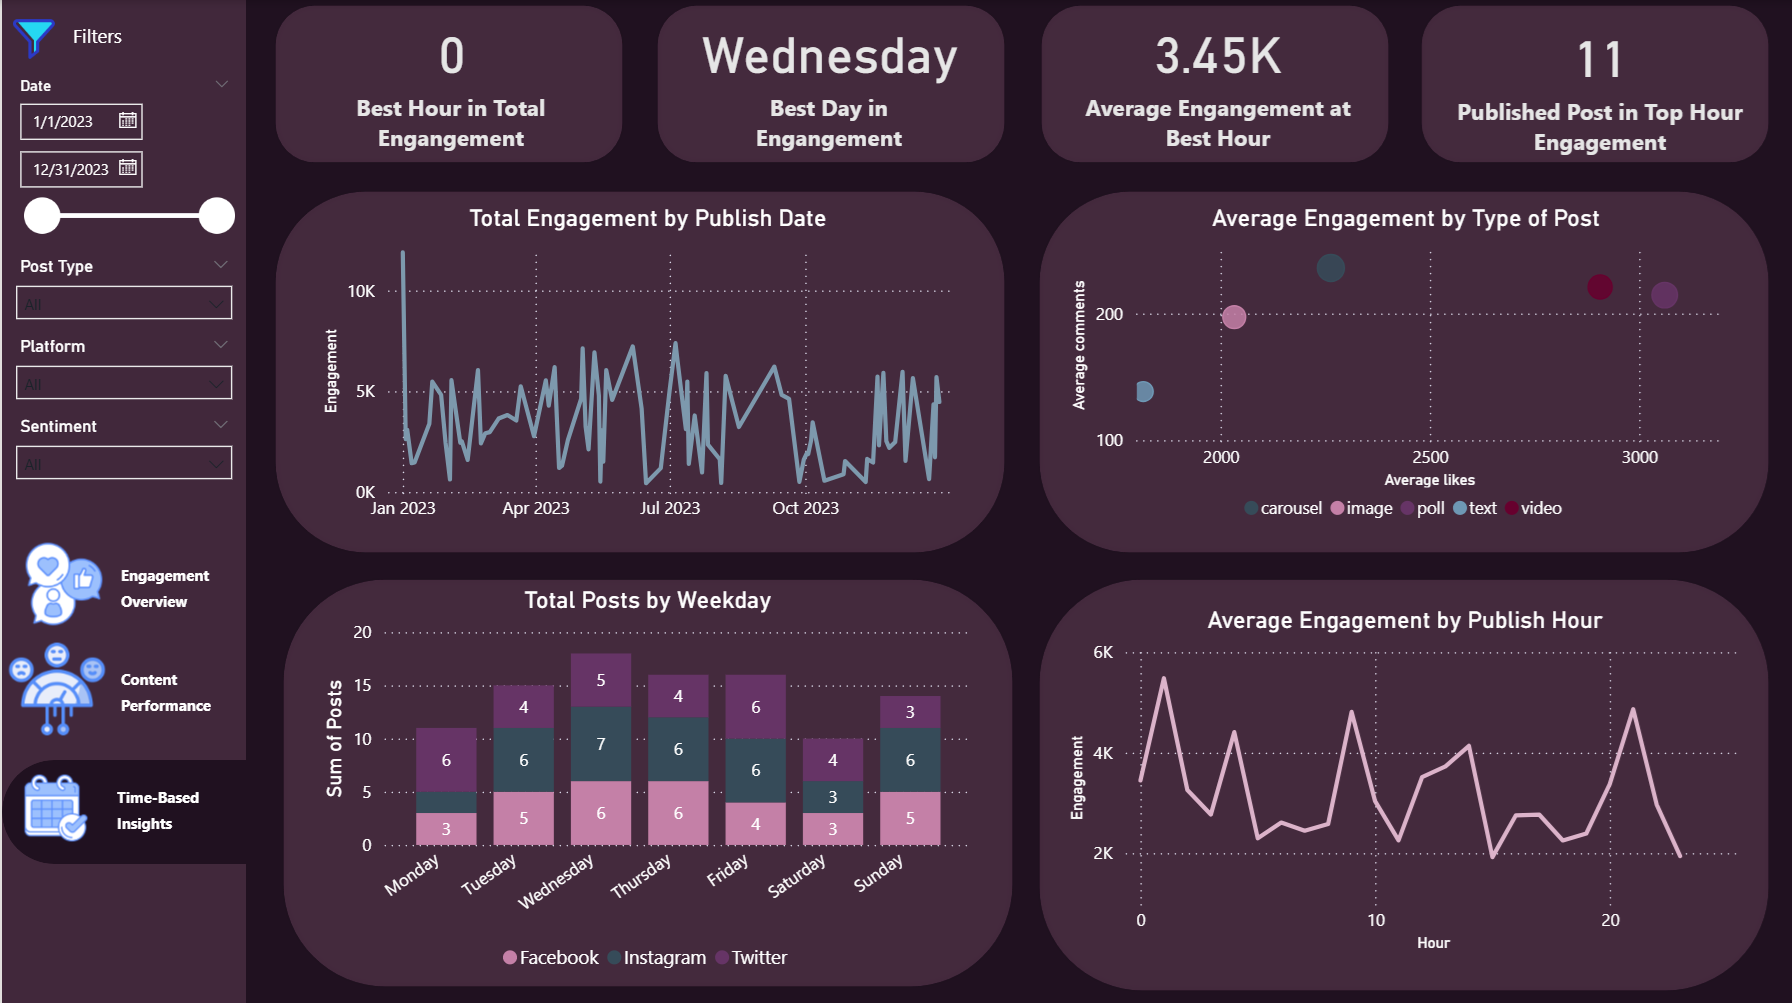

Layout of this report page (visuals, bound fields, positions):
{"tool":"powerbi","page":{"name":"Time-Based Performance","canvas":[1280,720],"ordinal":3},"visuals":[{"type":"shape","box":[0,0,174.3,720],"z":0},{"type":"shape","box":[0,542.9,175.7,74.3],"z":1000},{"type":"shape","box":[191.4,0,255.7,120],"z":2000},{"type":"shape","box":[464.3,0,255.7,120],"z":3000},{"type":"shape","box":[738.6,0,255.7,120],"z":4000},{"type":"shape","box":[1010,0,255.7,120],"z":5000},{"type":"shape","box":[191.4,132.9,528.6,265.7],"z":6000},{"type":"shape","box":[737.1,132.9,528.6,265.7],"z":7000},{"type":"shape","box":[197.1,410,528.6,298.6],"z":8000},{"type":"shape","box":[737.1,410,528.6,301.4],"z":9000},{"type":"card","fields":{"Values":["fact_post.Top Hour"]},"box":[242.9,0,157.1,72.9],"z":10000},{"type":"textbox","box":[237.1,60,167.1,60],"z":11000},{"type":"card","fields":{"Values":["fact_post.Top Day"]},"box":[481.4,0,220,72.9],"z":12000},{"type":"textbox","box":[507.1,60,167.1,60],"z":13000},{"type":"card","fields":{"Values":["fact_post.Avg Top Eng Best Hour"]},"box":[758.6,0,220,72.9],"z":14000},{"type":"textbox","box":[767.1,60,202.9,60],"z":15000},{"type":"card","fields":{"Values":["fact_post.Hour Posts"]},"box":[1032.1,2.9,220,72.9],"z":16000},{"type":"textbox","box":[1031.4,62.9,220,60],"z":17000},{"type":"lineChart","title":"Total Engagement by Publish Date","fields":{"Category":["dim_time.post_time.Variation.Date Hierarchy.Year","dim_time.post_time.Variation.Date Hierarchy.Quarter","dim_time.post_time.Variation.Date Hierarchy.Month","dim_time.post_time.Variation.Date Hierarchy.Day"],"Y":["Sum(fact_post.Total Engagement)"]},"box":[224.3,145.7,474.3,235.7],"z":18000},{"type":"lineChart","title":"Average Engagement by Publish Hour","fields":{"Y":["Avg(fact_post.Total Engagement)"],"Category":["dim_time.hour"]},"box":[757.1,432.9,490,251.4],"z":19000},{"type":"columnChart","title":"Total Posts by Weekday","fields":{"Y":["Count(fact_post.post_id)"],"Category":["dim_time.post_day"],"Series":["dim_platform.platform_name"]},"box":[224.3,418.6,474.3,284.3],"z":20000},{"type":"scatterChart","title":"Average Engagement by Type of Post","fields":{"X":["Avg(fact_post.likes)"],"Y":["Avg(fact_post.comments)"],"Size":["Avg(fact_post.shares)"],"Series":["dim_post_type.post_type"]},"box":[758.6,145.7,488.6,235.7],"z":21000},{"type":"actionButton","box":[10,548.6,165.7,57.1],"z":23000},{"type":"textbox","box":[77.1,554.3,97.1,51.4],"z":24000},{"type":"textbox","box":[80,470,95.7,50],"z":25000},{"type":"textbox","box":[80,395.7,94.3,57.1],"z":26000},{"type":"image","box":[0,4.3,45.7,45.7],"z":27000},{"type":"textbox","box":[45.7,11.4,74.3,32.9],"z":28000},{"type":"slicer","fields":{"Values":["dim_time.Date"]},"box":[0,50,174.3,122.9],"z":29000},{"type":"slicer","fields":{"Values":["dim_post_type.post_type"]},"box":[0,178.6,174.3,67.1],"z":30000},{"type":"slicer","fields":{"Values":["dim_platform.platform_name"]},"box":[0,235.7,174.3,67.1],"z":31000},{"type":"slicer","fields":{"Values":["dim_sentiment.sentiment_label"]},"box":[0,292.9,174.3,67.1],"z":32000},{"type":"actionButton","box":[10,382.9,165.7,68.6],"z":33000},{"type":"actionButton","box":[0,452.9,175.7,78.6],"z":33500}]}

Visuals, with their boxes on the page's 1280x720 design canvas (x1, y1, x2, y2). These are canvas units, not pixel positions in the 1792x1003 screenshot, which may show the page scaled, cropped or inside an application window:
shape: <region>0, 0, 174, 720</region>
shape: <region>0, 543, 176, 617</region>
shape: <region>191, 0, 447, 120</region>
shape: <region>464, 0, 720, 120</region>
shape: <region>739, 0, 994, 120</region>
shape: <region>1010, 0, 1266, 120</region>
shape: <region>191, 133, 720, 399</region>
shape: <region>737, 133, 1266, 399</region>
shape: <region>197, 410, 726, 709</region>
shape: <region>737, 410, 1266, 711</region>
card - fact_post.Top Hour: <region>243, 0, 400, 73</region>
textbox: <region>237, 60, 404, 120</region>
card - fact_post.Top Day: <region>481, 0, 701, 73</region>
textbox: <region>507, 60, 674, 120</region>
card - fact_post.Avg Top Eng Best Hour: <region>759, 0, 979, 73</region>
textbox: <region>767, 60, 970, 120</region>
card - fact_post.Hour Posts: <region>1032, 3, 1252, 76</region>
textbox: <region>1031, 63, 1251, 123</region>
"Total Engagement by Publish Date" lineChart: <region>224, 146, 699, 381</region>
"Average Engagement by Publish Hour" lineChart: <region>757, 433, 1247, 684</region>
"Total Posts by Weekday" columnChart: <region>224, 419, 699, 703</region>
"Average Engagement by Type of Post" scatterChart: <region>759, 146, 1247, 381</region>
actionButton: <region>10, 549, 176, 606</region>
textbox: <region>77, 554, 174, 606</region>
textbox: <region>80, 470, 176, 520</region>
textbox: <region>80, 396, 174, 453</region>
image: <region>0, 4, 46, 50</region>
textbox: <region>46, 11, 120, 44</region>
slicer - dim_time.Date: <region>0, 50, 174, 173</region>
slicer - dim_post_type.post_type: <region>0, 179, 174, 246</region>
slicer - dim_platform.platform_name: <region>0, 236, 174, 303</region>
slicer - dim_sentiment.sentiment_label: <region>0, 293, 174, 360</region>
actionButton: <region>10, 383, 176, 452</region>
actionButton: <region>0, 453, 176, 532</region>
